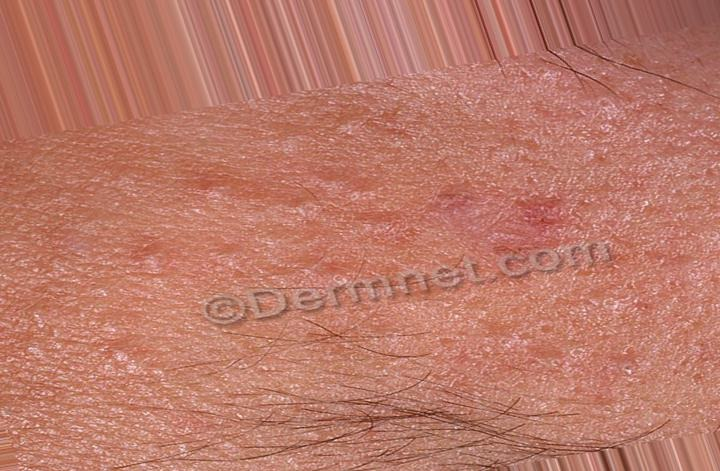Acne: (121, 163, 576, 318)
